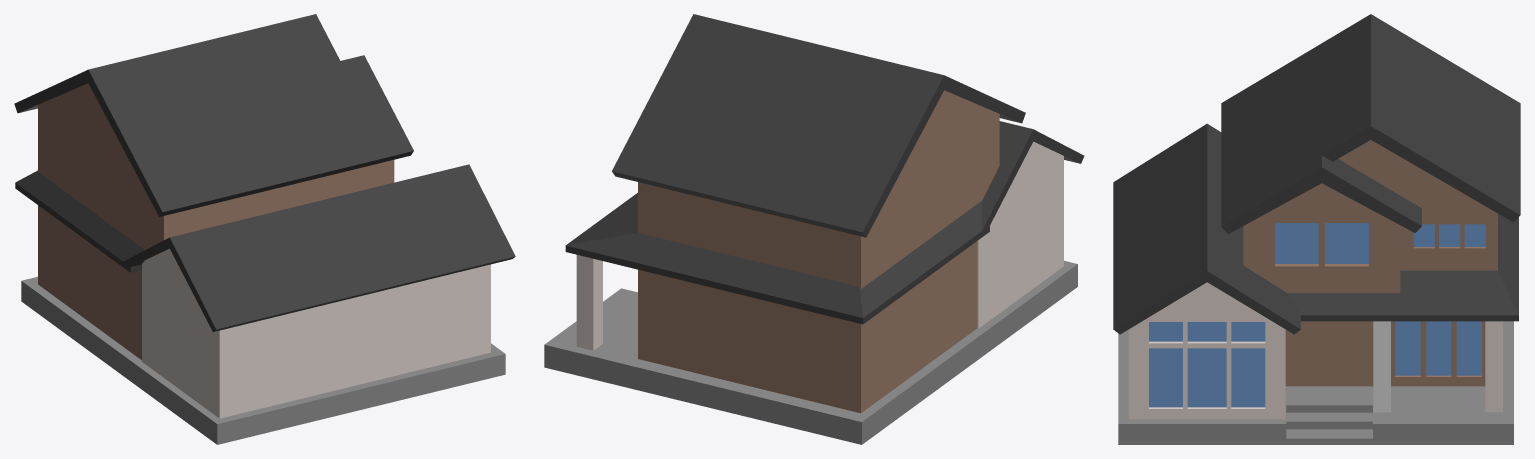
The model's file is House3.glb.
The picture shows the model from 3 angles, left to right: view 1: azimuth 30°, elevation 25°; view 2: azimuth 150°, elevation 25°; view 3: azimuth 270°, elevation 25°; orthographic projection. The views are drawn at different scales.
Visible parts, largest first — view 1: Cube.038, Cube.035, Cube.032, Window, Cube.040, Cube.036, Cube.039, Cube.037; view 2: Window, Cube.038, Cube.040, Cube.036, Cube.032, Cube.035, Cube.042; view 3: Cube.038, Cube.035, Window, Cube.040, Cube.036, Cube.032, Cube.037, Window.006, Cube.039, Window.005, Window.003, Cube.044 (+3 smaller).
Boxes of the visible parts, x1,y1,x2,y2 form: Cube.038: (14, 14, 389, 216); Cube.035: (123, 164, 515, 331); Cube.032: (142, 248, 490, 418); Window: (38, 83, 340, 360); Cube.040: (21, 276, 505, 444); Cube.036: (15, 170, 144, 272); Cube.039: (340, 55, 413, 161); Cube.037: (341, 160, 394, 195); Window: (638, 90, 999, 413); Cube.038: (612, 14, 1025, 237); Cube.040: (544, 260, 1077, 444); Cube.036: (565, 193, 989, 324); Cube.032: (977, 141, 1063, 328); Cube.035: (982, 121, 1084, 233); Cube.042: (576, 255, 602, 350); Cube.038: (1221, 14, 1520, 222); Cube.035: (1113, 123, 1300, 334); Window: (1285, 140, 1497, 386); Cube.040: (1118, 321, 1513, 444); Cube.036: (1287, 213, 1518, 321); Cube.032: (1128, 282, 1285, 419); Cube.037: (1243, 183, 1400, 292); Window.006: (1149, 322, 1265, 407); Cube.039: (1221, 155, 1421, 234); Window.005: (1395, 321, 1481, 375); Window.003: (1275, 223, 1368, 263); Cube.044: (1285, 412, 1372, 444).
Bounding box in the file's own units: 6.37 × 5.78 × 7.42.
